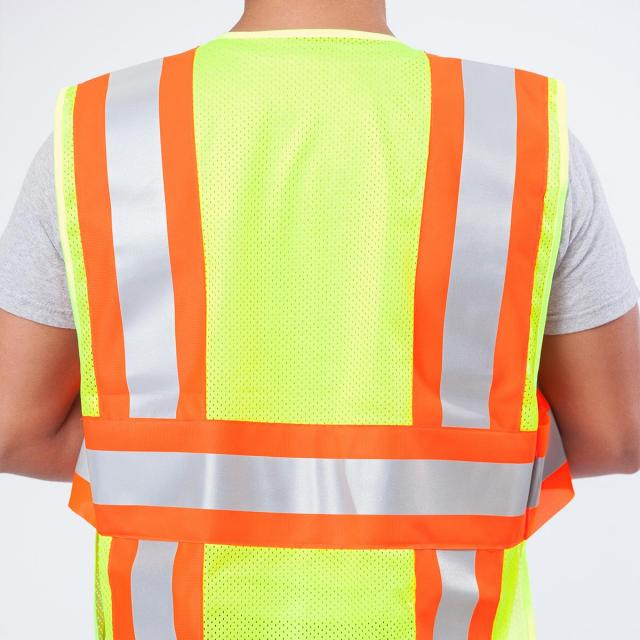Reflective-Jacket: (16, 9, 604, 640)
